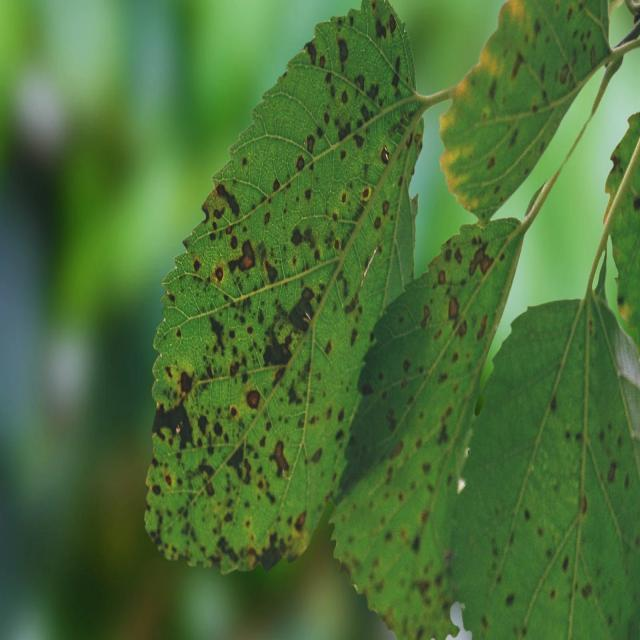leaf_spot: (145, 0, 452, 572), (333, 218, 524, 639)
